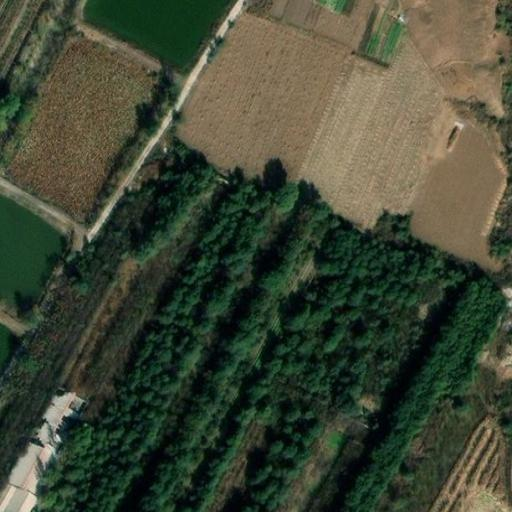building: (29, 387, 79, 453), (0, 437, 54, 494), (2, 485, 38, 512)
